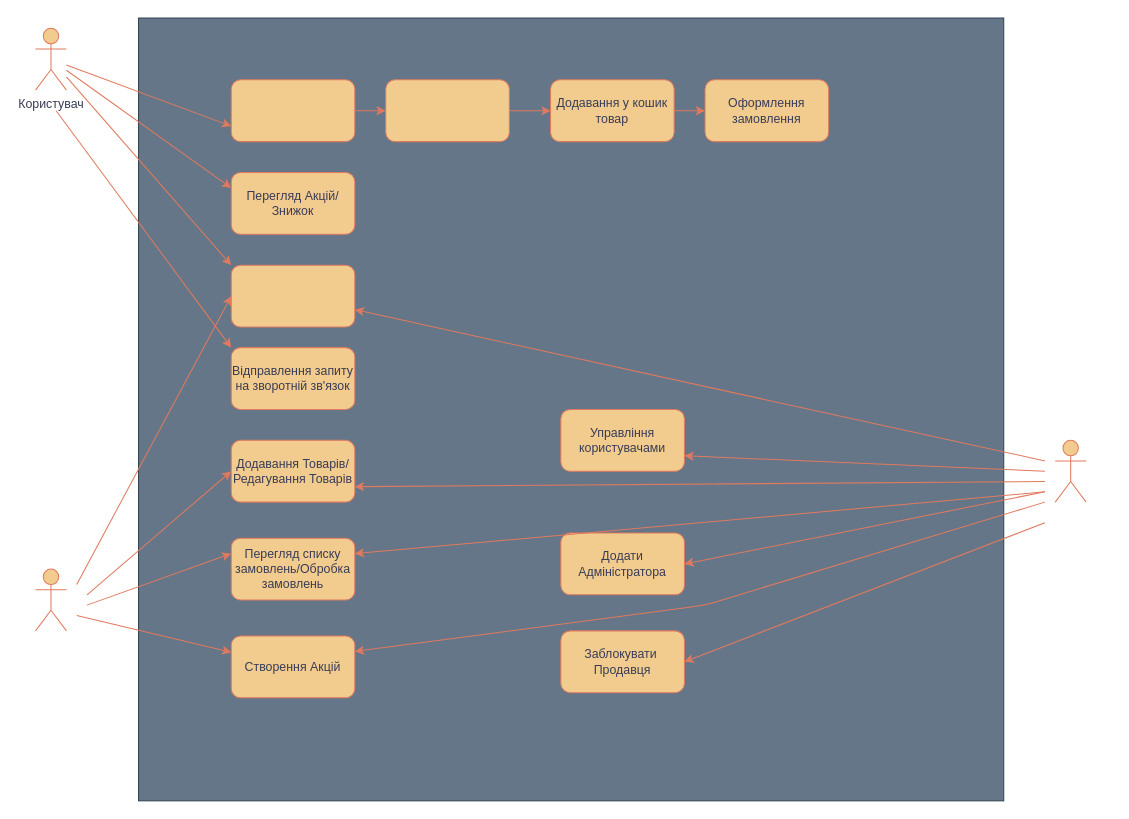
The diagram is 1129 pixels wide and 819 high, and some of its shapes have lost their labels. The shapes that lost their labels are listed below. From the top down, each one's centre as x and y in pixels, then its label:
the point at 292,110: Пошук товарів
the point at 447,110: Перегляд Товару
the point at 292,295: Авторизація/Реєстрація
the point at 1070,470: Адміністратор
the point at 50,599: Продавець
